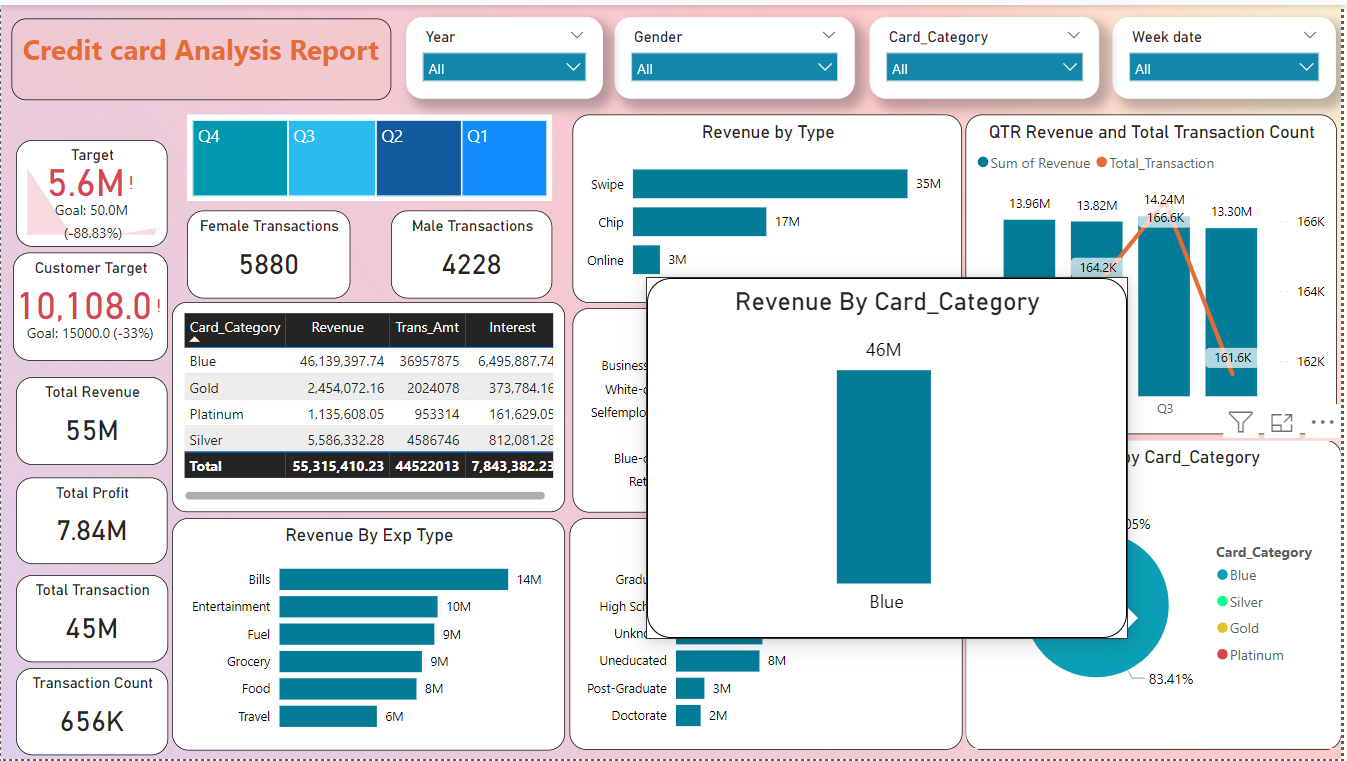

This screenshot's page, from the dashboard's own definition file:
{"tool":"powerbi","page":{"name":"Page 1","canvas":[1280,720],"ordinal":0},"visuals":[{"type":"lineClusteredColumnComboChart","title":"QTR Revenue and Total Transaction Count","fields":{"Category":["credit_card_detail.Qtr"],"Y":["Sum(credit_card_detail.Revenue)"],"Y2":["Sum(credit_card_detail.Total_Trans_Vol)"]},"box":[921,105,354.7,305.4],"z":0},{"type":"barChart","title":"Revenue By Exp Type","fields":{"Y":["Sum(credit_card_detail.Revenue)"],"Category":["credit_card_detail.Exp Type"]},"box":[163.2,489.6,375.4,221.9],"z":2000},{"type":"barChart","title":"Revenue By Education Type","fields":{"Y":["Sum(credit_card_detail.Revenue)"],"Category":["customer_detail.Education_Level"]},"box":[542.4,489.9,375.4,221.1],"z":3000},{"type":"barChart","title":"Revenue By Occupation","fields":{"Y":["Sum(credit_card_detail.Revenue)"],"Category":["customer_detail.Customer_Job"]},"box":[545.6,289.5,372.2,195.6],"z":4000},{"type":"kpi","title":"Target ","fields":{"TrendLine":["credit_card_detail.Card_Category"],"Goal":["_Measures.Target"],"Indicator":["_Measures.Total Revenue"]},"box":[14.3,128.8,144.7,101.8],"z":5000},{"type":"kpi","title":"Customer Target","fields":{"Indicator":["CountNonNull(customer_detail.Client_Num)"],"Goal":["_Measures.Customer Target"],"TrendLine":["credit_card_detail.Week date.Variation.Date Hierarchy.Year"]},"box":[11.1,237,147.9,103.4],"z":6000},{"type":"tableEx","fields":{"Values":["credit_card_detail.Card_Category","Sum(credit_card_detail.Revenue)","Sum(credit_card_detail.Total_Trans_Amt)","Sum(credit_card_detail.Interest_Earned)"]},"box":[163.2,284,375.4,200.7],"z":7000},{"type":"card","title":"Total Revenue","fields":{"Values":["Sum(credit_card_detail.Revenue)"]},"box":[14.3,354.7,144.7,84.3],"z":8000},{"type":"card","title":"Total Profit","fields":{"Values":["Sum(credit_card_detail.Interest_Earned)"]},"box":[14.3,451.7,144.7,82.7],"z":9000},{"type":"card","title":"Total Transaction ","fields":{"Values":["Sum(credit_card_detail.Total_Trans_Amt)"]},"box":[14.2,544.3,145.1,83.6],"z":10000},{"type":"card","title":"Transaction Count","fields":{"Values":["Sum(credit_card_detail.Total_Trans_Vol)"]},"box":[14.2,632.6,145.1,83.6],"z":11000},{"type":"slicer","fields":{"Values":["credit_card_detail.Week date"]},"box":[1060.9,11.1,213.1,77.9],"z":12000},{"type":"treemap","fields":{"Group":["credit_card_detail.Qtr"],"Values":["Avg(credit_card_detail.Client_Num)"]},"box":[14.3,11.1,369,98.6],"z":13000},{"type":"pieChart","title":"Revenue by Card_Category","fields":{"Y":["Sum(credit_card_detail.Revenue)"],"Category":["credit_card_detail.Card_Category"]},"box":[921,415.1,359.5,295.9],"z":14000},{"type":"slicer","fields":{"Values":["credit_card_detail.Card_Category"]},"box":[828.7,11.1,219.5,77.9],"z":15000},{"type":"card","title":"Female Transactions","fields":{"Values":["_Measures.FemaleTransactionCount"]},"box":[167,138.4,155.9,84.3],"z":16000},{"type":"card","title":"Male Transactions","fields":{"Values":["_Measures.MaleTransactionCount"]},"box":[340.4,138.4,154.3,84.3],"z":17000},{"type":"slicer","fields":{"Values":["customer_detail.Gender"]},"box":[585.3,11.1,229,77.9],"z":18000},{"type":"barChart","title":"Revenue by Type","fields":{"Y":["Sum(credit_card_detail.Revenue)"],"Category":["credit_card_detail.Use Chip"]},"box":[545.6,105,372.2,179.7],"z":19002},{"type":"slicer","fields":{"Values":["credit_card_detail.Week date.Variation.Date Hierarchy.Year"]},"box":[386.5,11.1,187.7,77.9],"z":19003}]}

Visuals, with their boxes in screenshot pixels (x1, y1, x2, y2), scaled from the page's 1280x720 canvas onto the 1347x761 screenshot:
"QTR Revenue and Total Transaction Count" lineClusteredColumnComboChart: <bbox>969, 111, 1342, 434</bbox>
"Revenue By Exp Type" barChart: <bbox>172, 517, 567, 752</bbox>
"Revenue By Education Type" barChart: <bbox>571, 518, 966, 751</bbox>
"Revenue By Occupation" barChart: <bbox>574, 306, 966, 513</bbox>
"Target " kpi: <bbox>15, 136, 167, 244</bbox>
"Customer Target" kpi: <bbox>12, 250, 167, 360</bbox>
tableEx - credit_card_detail.Card_Category x Sum(credit_card_detail.Revenue): <bbox>172, 300, 567, 512</bbox>
"Total Revenue" card: <bbox>15, 375, 167, 464</bbox>
"Total Profit" card: <bbox>15, 477, 167, 565</bbox>
"Total Transaction " card: <bbox>15, 575, 168, 664</bbox>
"Transaction Count" card: <bbox>15, 669, 168, 757</bbox>
slicer - credit_card_detail.Week date: <bbox>1116, 12, 1341, 94</bbox>
treemap - credit_card_detail.Qtr x Avg(credit_card_detail.Client_Num): <bbox>15, 12, 403, 116</bbox>
"Revenue by Card_Category" pieChart: <bbox>969, 439, 1346, 751</bbox>
slicer - credit_card_detail.Card_Category: <bbox>872, 12, 1103, 94</bbox>
"Female Transactions" card: <bbox>176, 146, 340, 235</bbox>
"Male Transactions" card: <bbox>358, 146, 521, 235</bbox>
slicer - customer_detail.Gender: <bbox>616, 12, 857, 94</bbox>
"Revenue by Type" barChart: <bbox>574, 111, 966, 301</bbox>
slicer - credit_card_detail.Week date.Variation.Date Hierarchy.Year: <bbox>407, 12, 604, 94</bbox>
